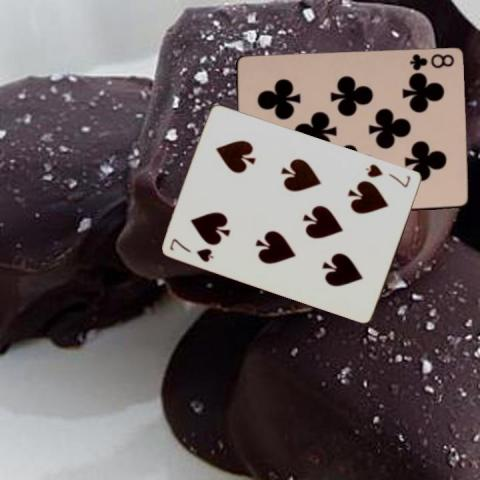7s: (362, 161, 412, 189), (167, 235, 215, 263)
8c: (407, 51, 455, 72)
